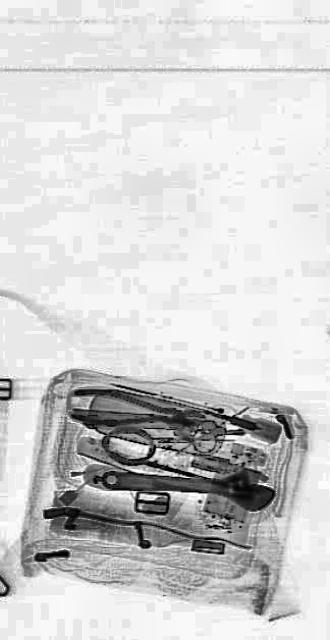Pliers: (68, 380, 204, 438)
Wrench: (100, 457, 274, 511)
